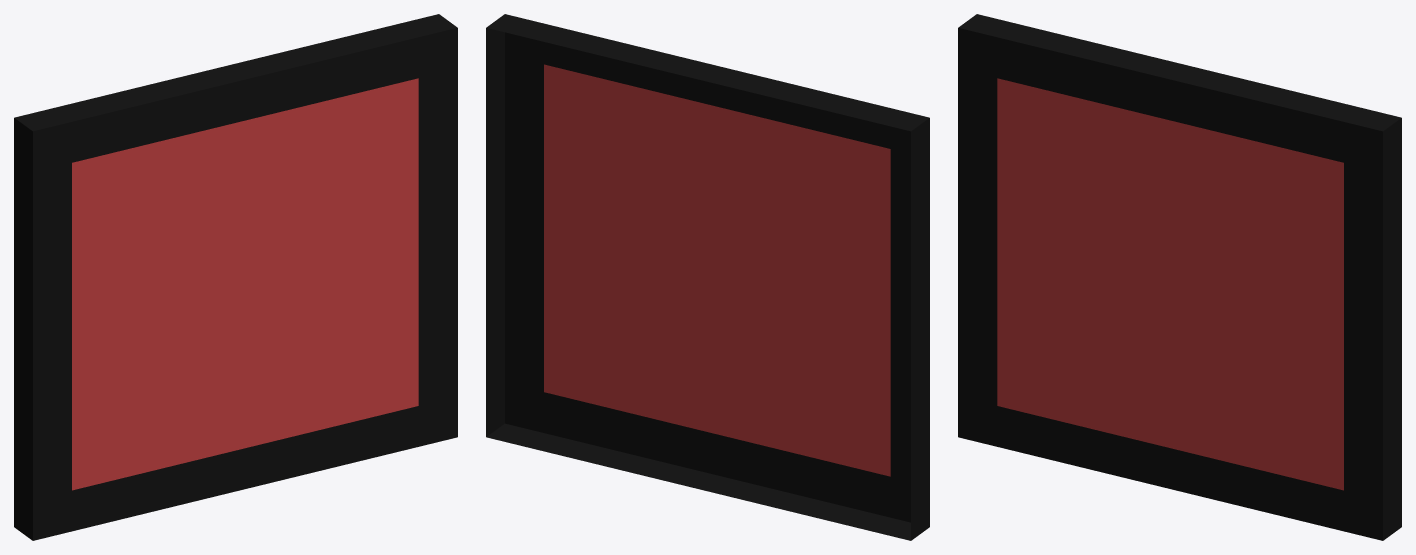
The model's file is Paint_9.fbx.
3 renders of one model, left to right at view 1: azimuth 30°, elevation 25°; view 2: azimuth 150°, elevation 25°; view 3: azimuth 330°, elevation 25°, orthographic.
Parts seen in each view (by area): view 1: polySurface2223; view 2: polySurface2223; view 3: polySurface2223.
Part boxes in pixels (x1,y1,x2,y2): polySurface2223: (14,14,457,540); polySurface2223: (486,14,929,540); polySurface2223: (958,14,1401,540).
Bounding box in the file's own units: 1.04 × 0.9608 × 0.08.
1 material, 1 textured.
